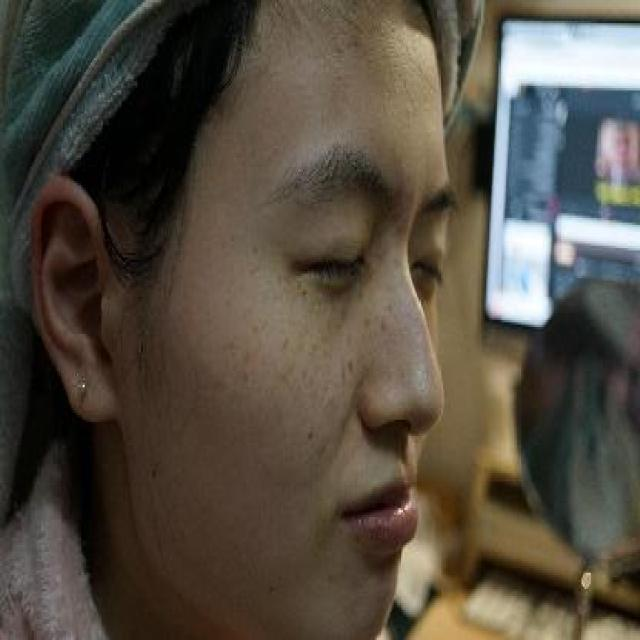whiteheads: (374, 237, 388, 264)
